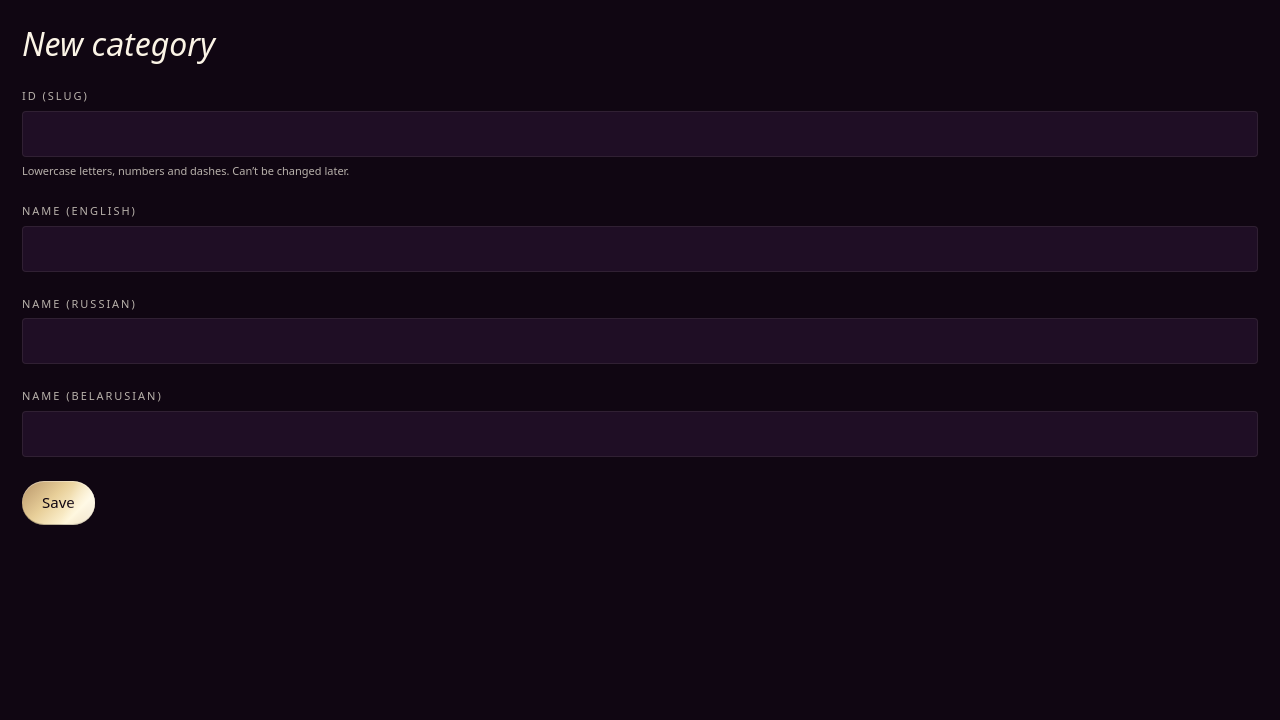
GalleryCategoryEditor › shows a validation error and does not submit an invalid slug
Type "Bad Slug" into the field labelled "ID (slug)".
click(640, 134); type("Bad Slug")  # box [22,110,1258,156]
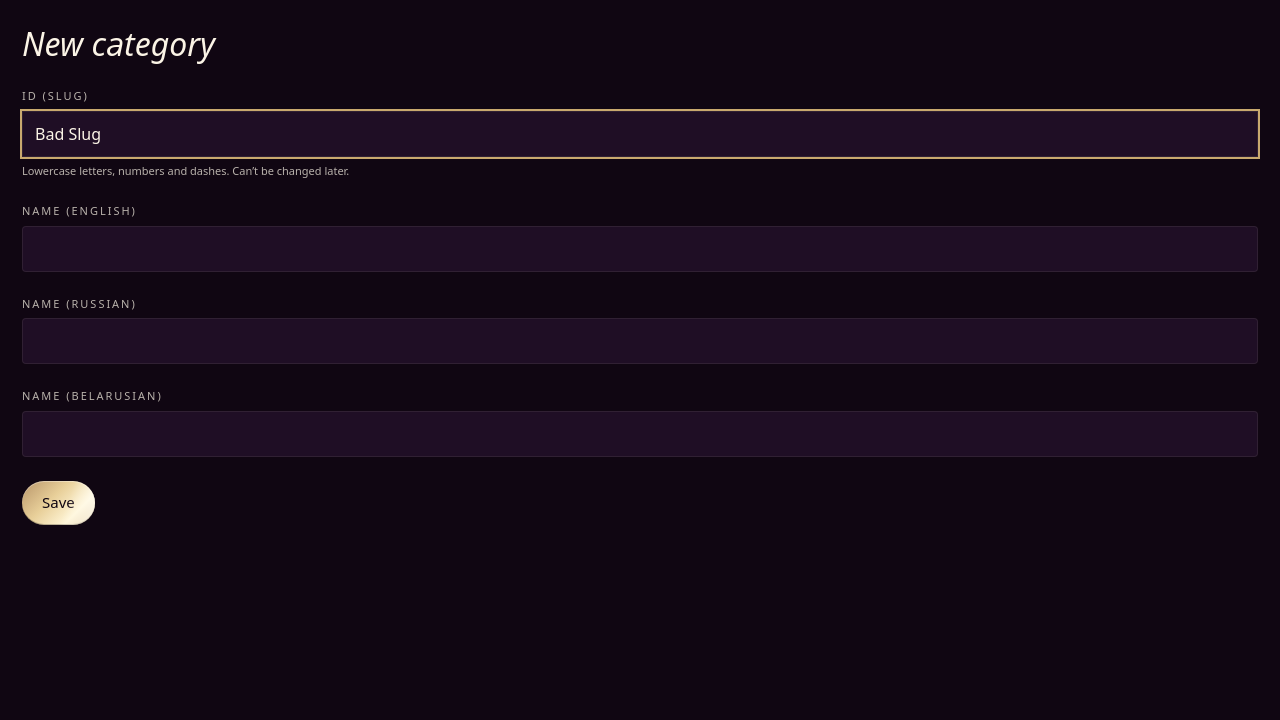
Type "E" into the field labelled "Name (English)".
click(640, 248); type("E")  # box [22,226,1258,272]
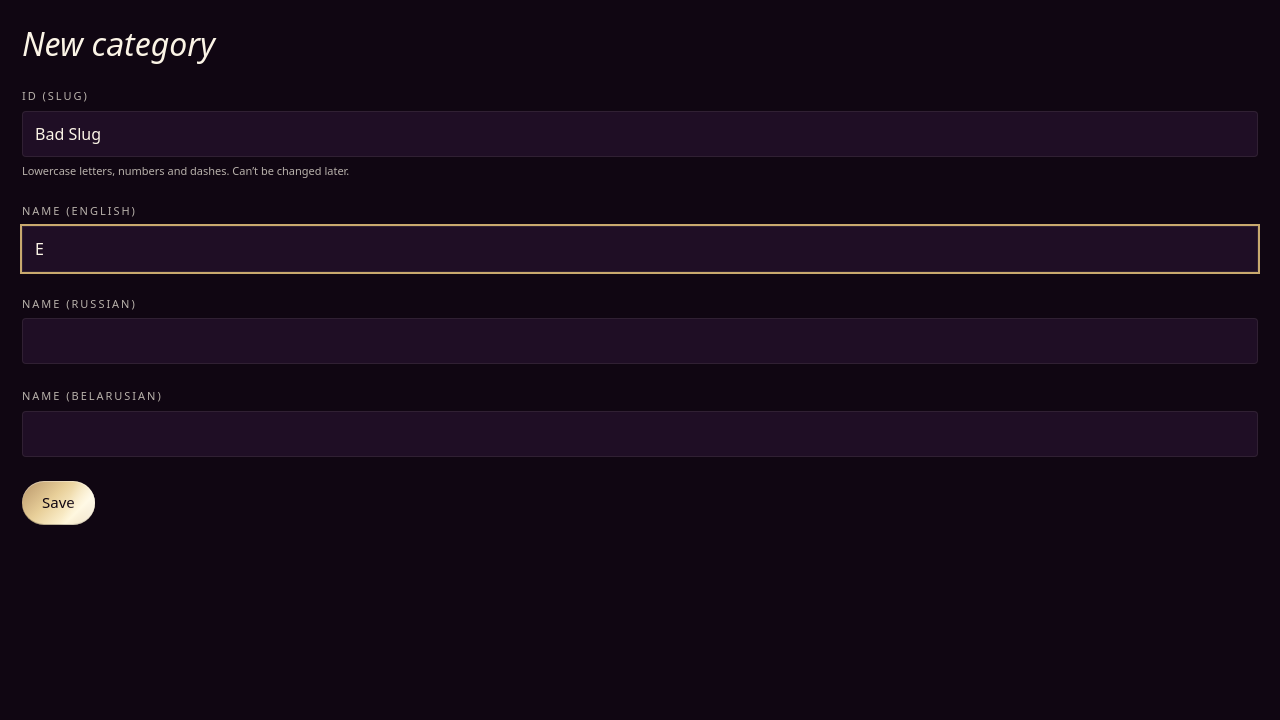
Type "E" into the field labelled "Name (Russian)".
click(640, 341); type("E")  # box [22,318,1258,364]
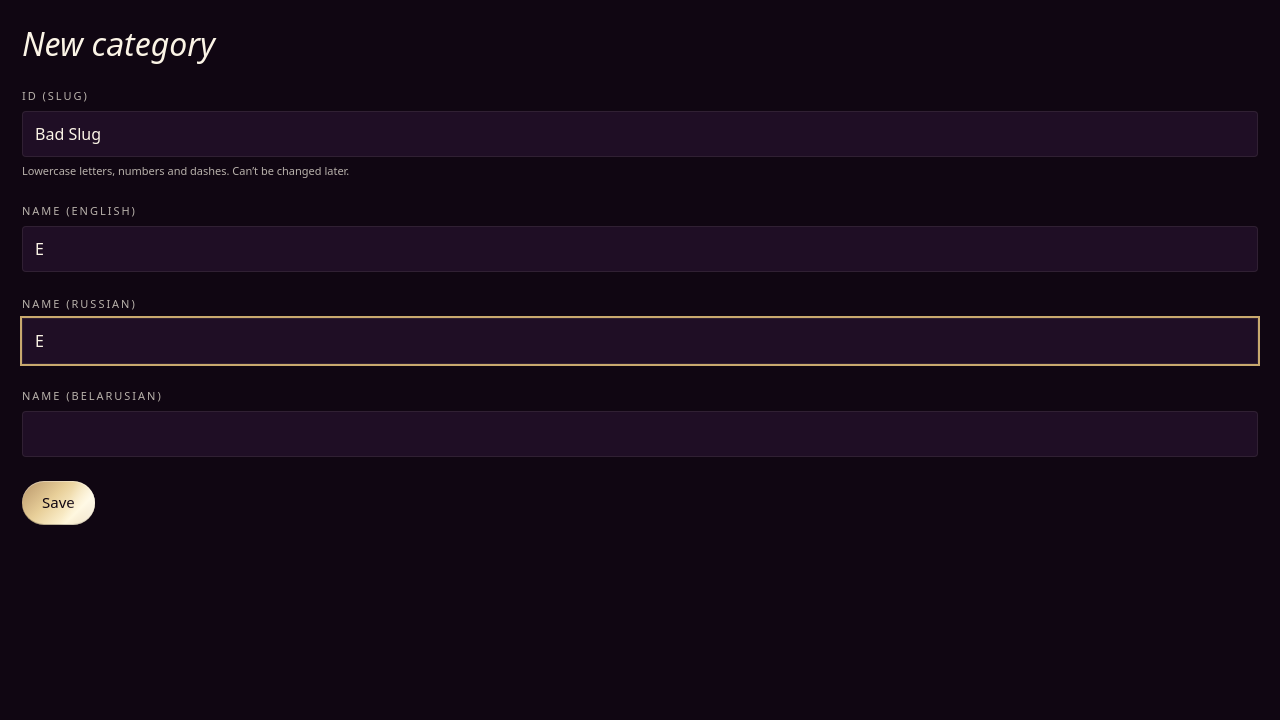
Type "E" into the field labelled "Name (Belarusian)".
click(640, 434); type("E")  # box [22,410,1258,456]
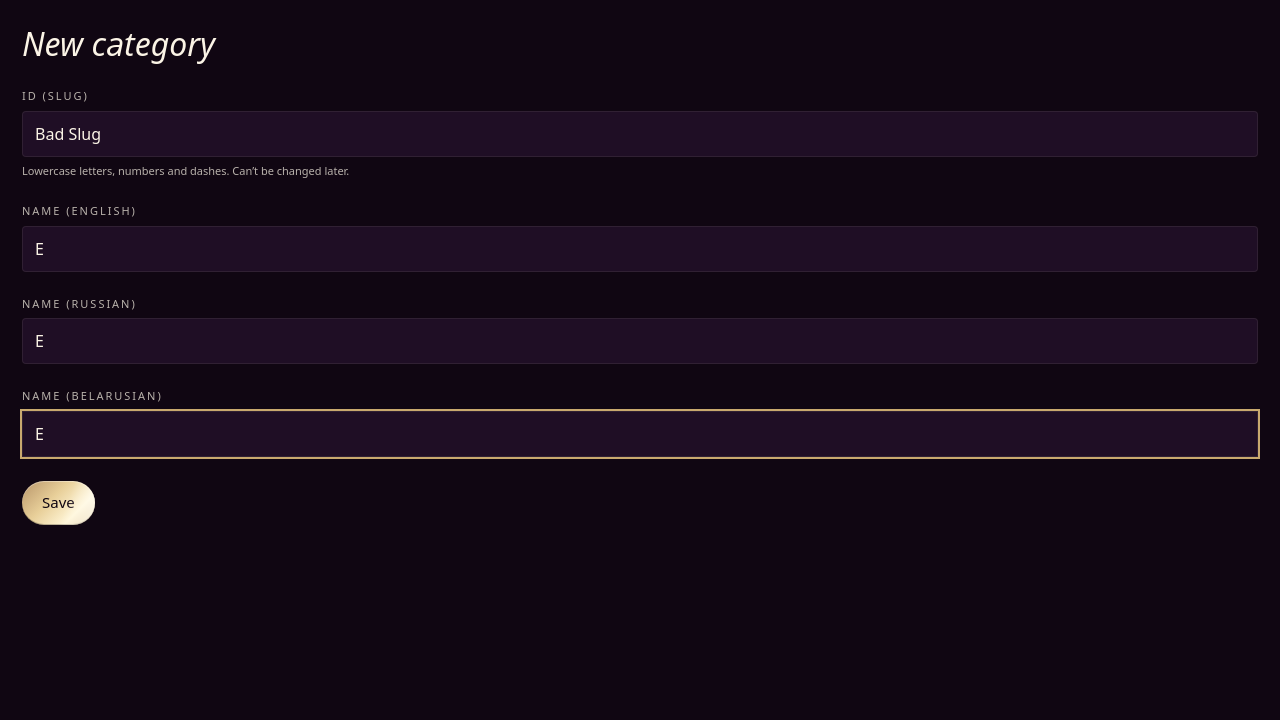
Click the button "Save".
click(58, 502)  # box [22,480,95,524]
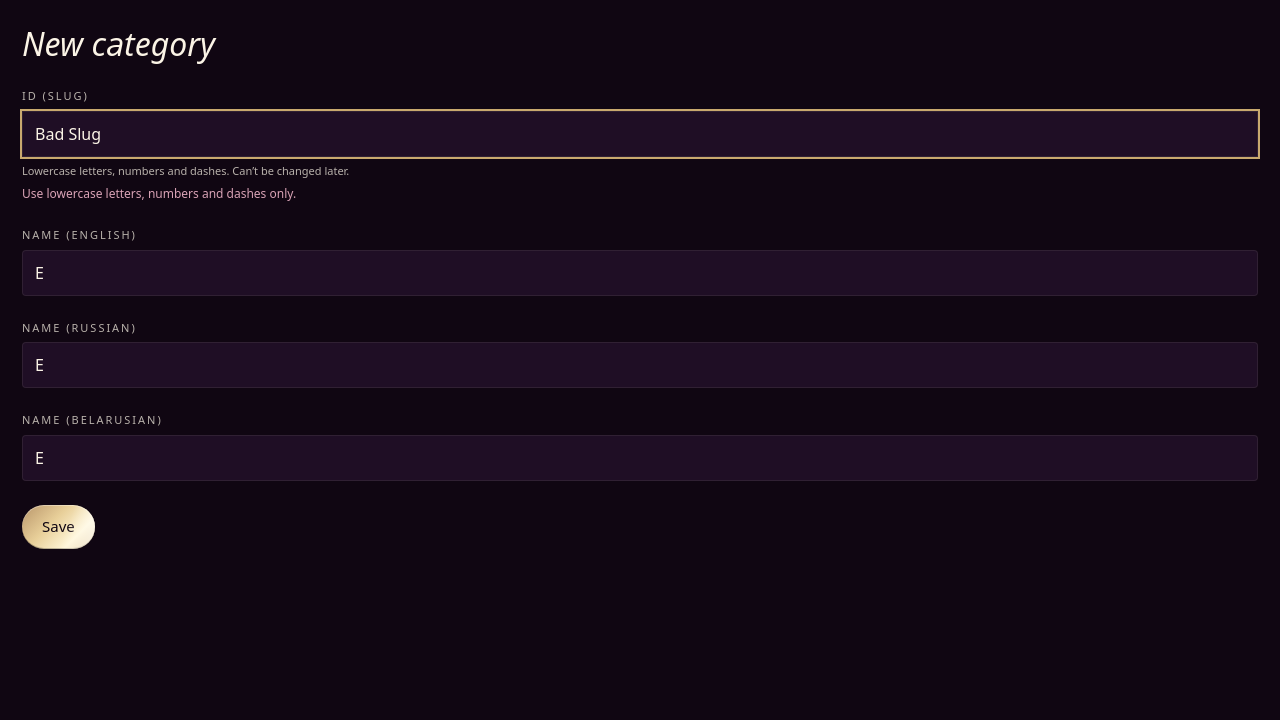
Result: the text "Use lowercase letters, numbers and dashes only." is shown at [22,185,296,202]
